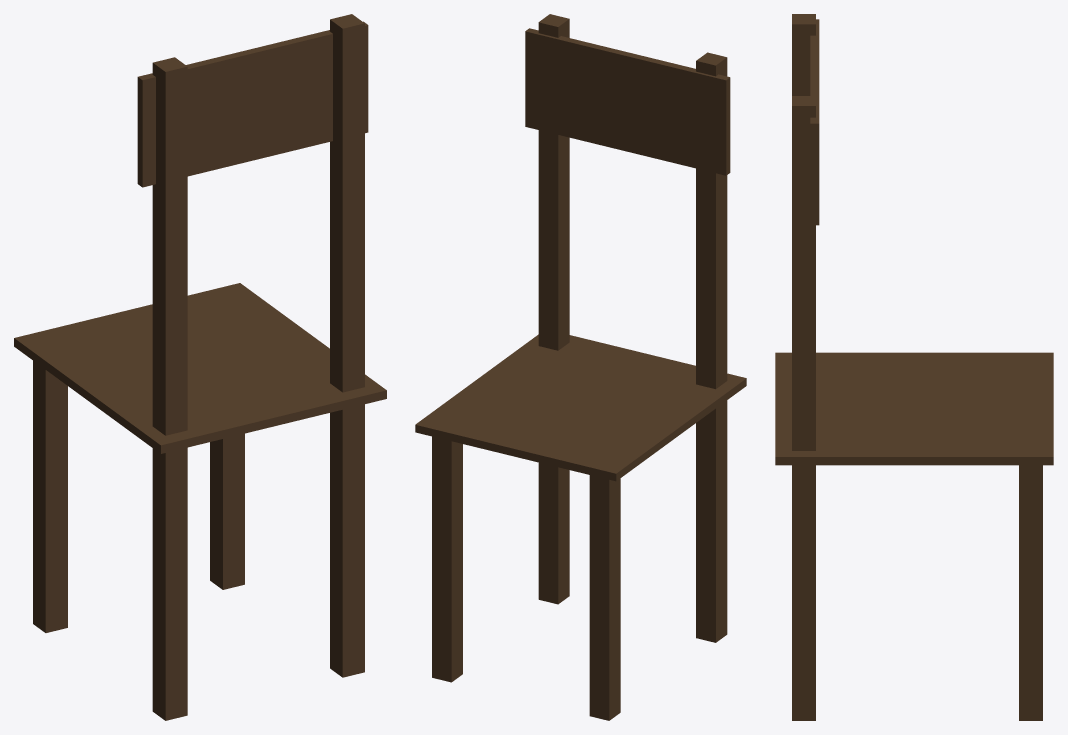
Rendered from Chair.fbx.
The picture shows the model from 3 angles, left to right: view 1: azimuth 30°, elevation 25°; view 2: azimuth 150°, elevation 25°; view 3: azimuth 270°, elevation 25°; orthographic projection. The views are drawn at different scales.
Parts seen in each view (by area): view 1: pCube10, pCube9, pCube8, pCube11, pCube7, pCube6; view 2: pCube10, pCube11, pCube9, pCube8, pCube7, pCube6; view 3: pCube10, pCube8, pCube6, pCube11, pCube9.
Part boxes in pixels (left/top/right/bottom): pCube10: left=14, top=283, right=386, bottom=453; pCube9: left=152, top=57, right=187, bottom=720; pCube8: left=330, top=14, right=364, bottom=677; pCube11: left=137, top=21, right=368, bottom=187; pCube7: left=33, top=360, right=67, bottom=632; pCube6: left=210, top=433, right=244, bottom=589; pCube10: left=415, top=334, right=746, bottom=481; pCube11: left=525, top=28, right=730, bottom=175; pCube9: left=696, top=52, right=727, bottom=642; pCube8: left=538, top=14, right=569, bottom=604; pCube7: left=589, top=475, right=620, bottom=720; pCube6: left=432, top=436, right=462, bottom=682; pCube10: left=775, top=352, right=1053, bottom=465; pCube8: left=792, top=96, right=815, bottom=720; pCube6: left=1019, top=465, right=1042, bottom=720; pCube11: left=810, top=19, right=819, bottom=225; pCube9: left=792, top=14, right=815, bottom=95.
Size of the model in its own units: 5.1 by 14 by 5.74.
